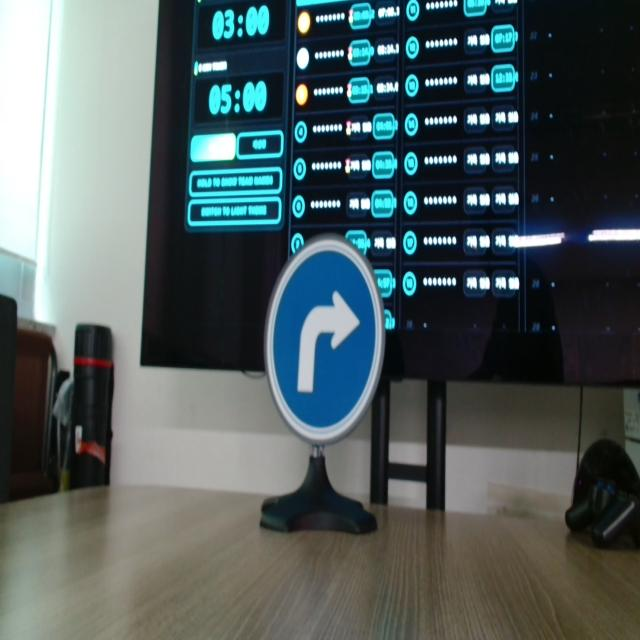right_dierection: (255, 230, 398, 480)
